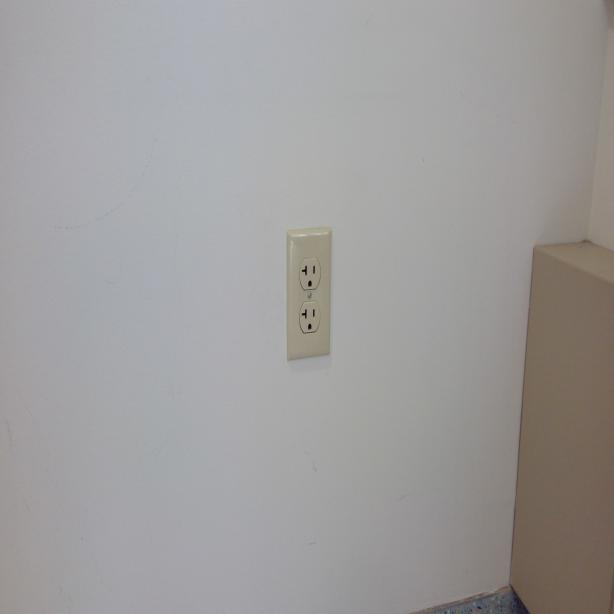typeb: (298, 257, 320, 290), (299, 302, 319, 333)
